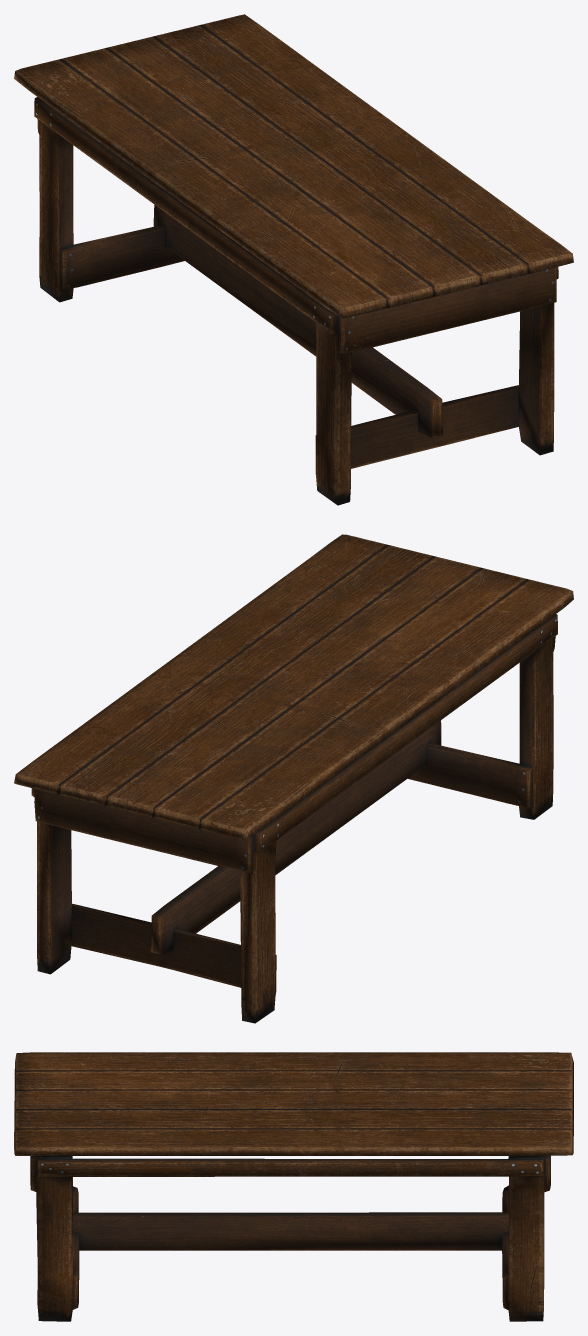
File: stol2.glb
The picture shows the model from 3 angles, top to bottom: view 1: azimuth 30°, elevation 25°; view 2: azimuth 150°, elevation 25°; view 3: azimuth 270°, elevation 25°; orthographic projection. The views are drawn at different scales.
Visible parts, largest first — view 1: RetopoGroup1; view 2: RetopoGroup1; view 3: RetopoGroup1.
Part boxes in pixels (x1=…): RetopoGroup1: x1=14, y1=14, x2=573, y2=505; RetopoGroup1: x1=14, y1=534, x2=573, y2=1023; RetopoGroup1: x1=14, y1=1052, x2=573, y2=1321.
Size of the model in its own units: 0.8267 by 0.7036 by 2.02.
1 material, 1 textured.
